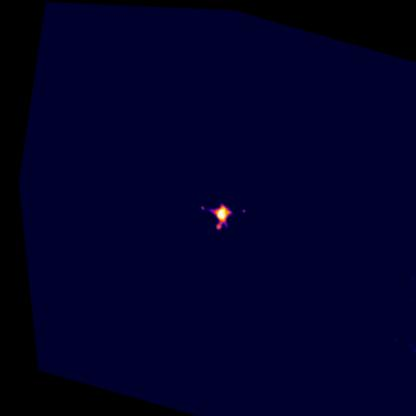drone: (190, 182, 246, 234)
